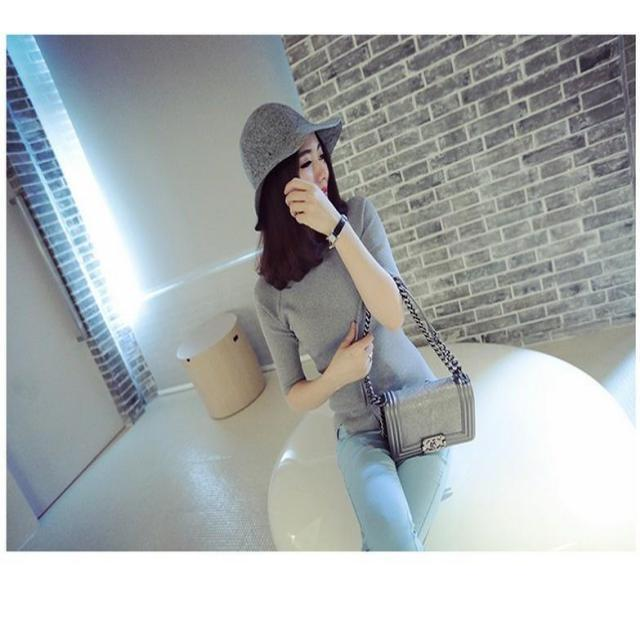short-sleeve-top: (244, 198, 414, 385)
